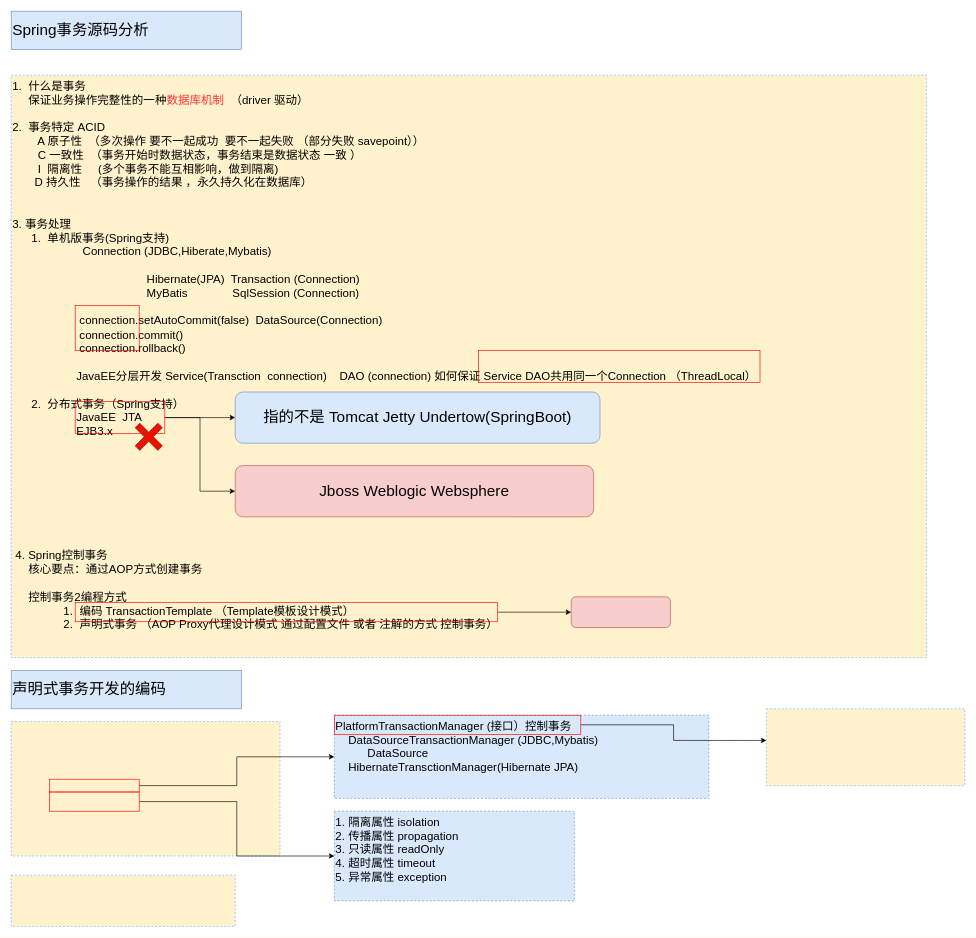
Some shapes in this 976 by 938 pixel diagram are drawn without their labels. Here are the shapes that lost their labels. From the top down, the box of each, then its label:
(571, 596, 670, 628): 推荐使用
(766, 708, 965, 786): 1. 开启事务 2. 事务提交 3. 事务回滚
(11, 721, 280, 856): 1 配置文件的方式 1. 原始对象 2. 额外功能 控制事务的代码 事务属性 3. 切面
(11, 875, 235, 926): 1 纯注解方式
